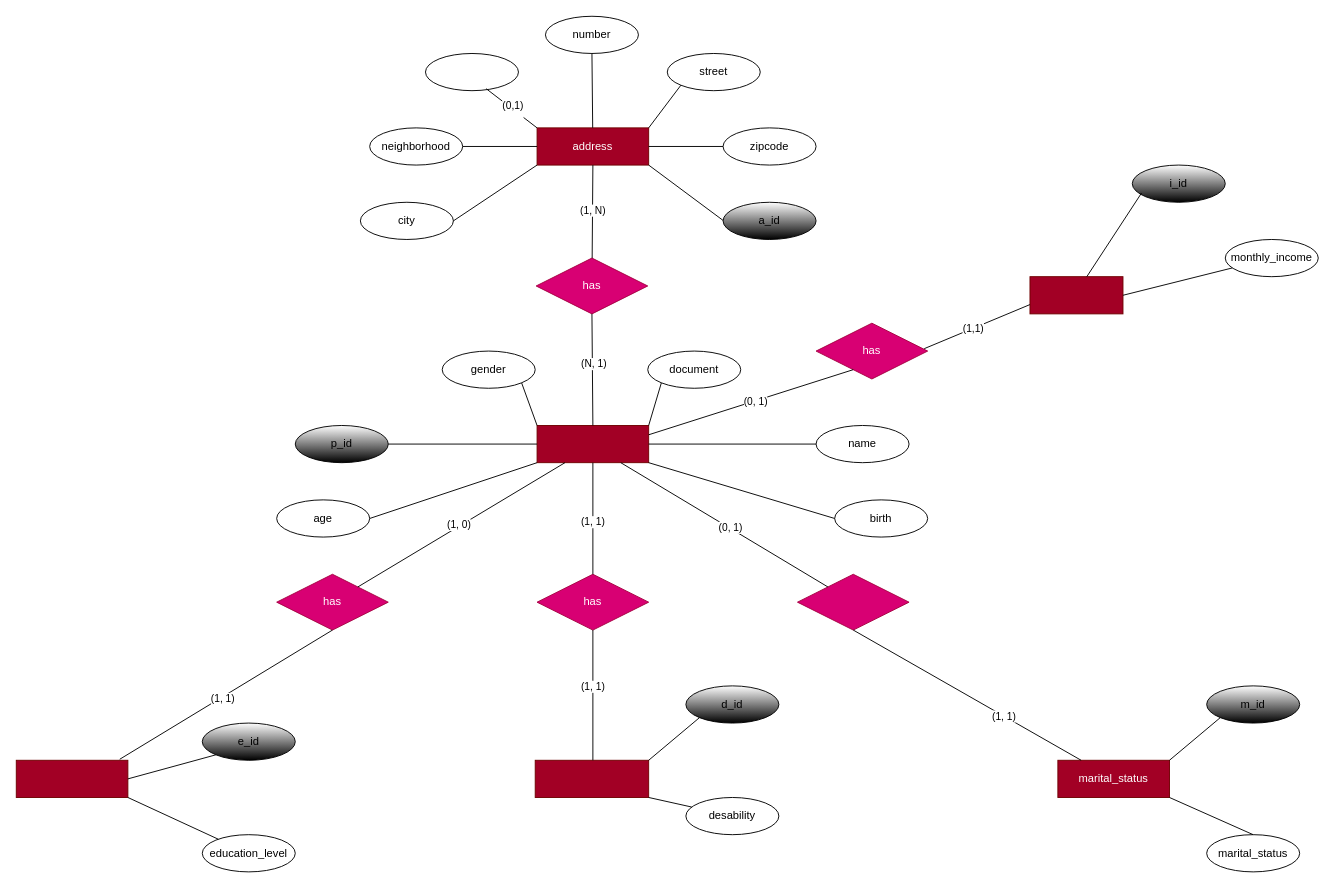
Some shapes in this 1335 by 888 pixel diagram are drawn without their labels. The box of each missing label's shape, as (x1, y1, x2, y2) in pixels:
complement: (425, 53, 518, 91)
disability: (534, 759, 649, 797)
education: (15, 759, 128, 797)
income: (1029, 276, 1123, 314)
is: (797, 573, 909, 630)
person: (536, 425, 649, 463)
